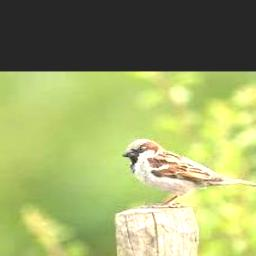Sparrow: (122, 139, 256, 207)
